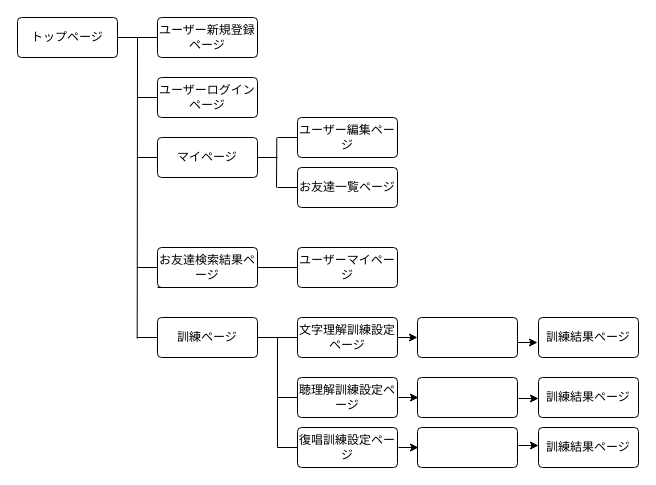
The diagram is 656 pixels wide and 485 high, and some of its shapes have lost their labels. The centre of each missing label's shape, as x and y in pixels:
"復唱訓練1→10ページまで繰り返し" goes at point (467, 447).
"文字理解訓練1→10ページまで繰り返し" goes at point (467, 337).
"聴理解訓練1→10ページまで繰り返し" goes at point (467, 397).
